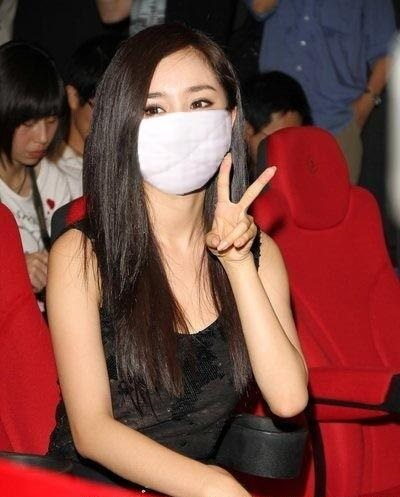face: (8, 96, 57, 164)
face_mask: (138, 54, 231, 195)
